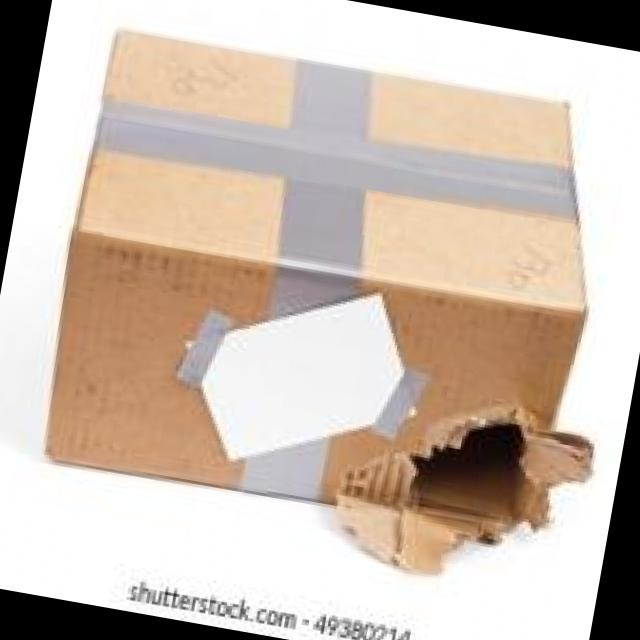box: (125, 72, 516, 570)
